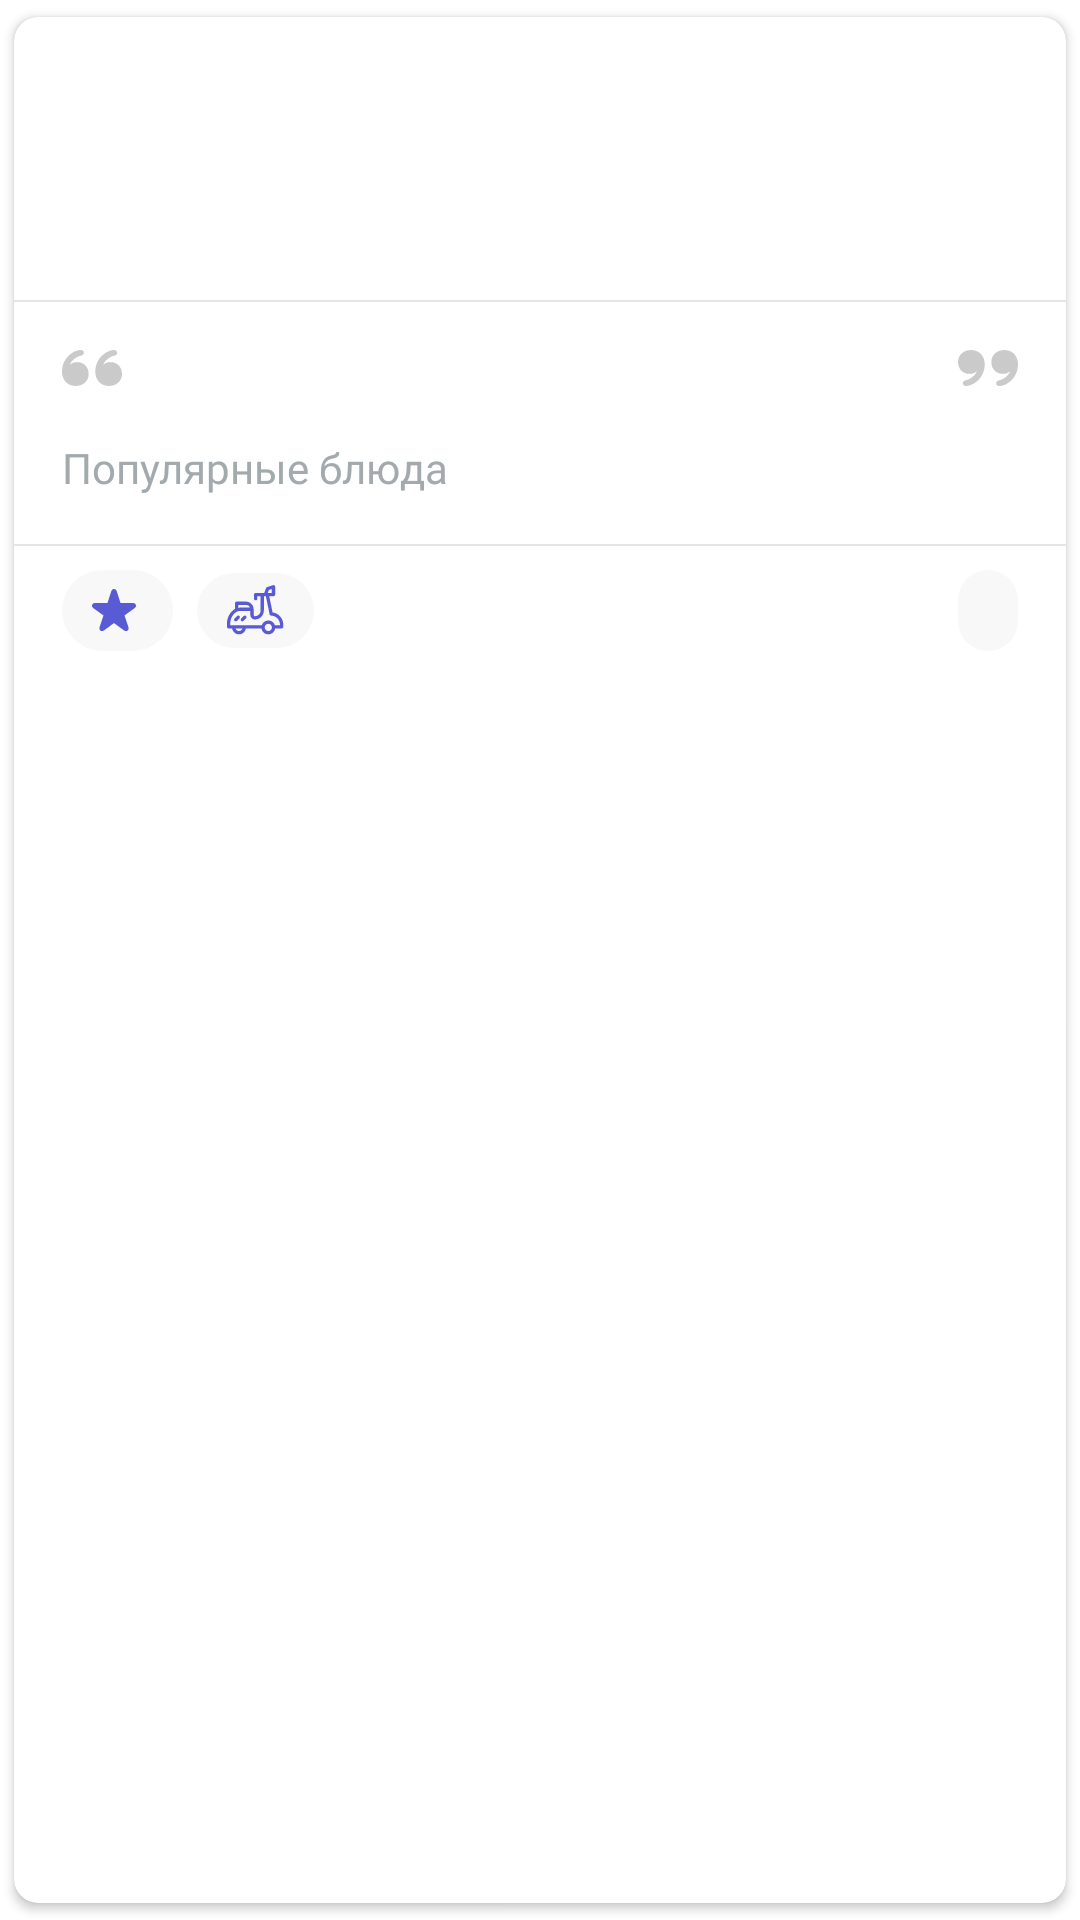

Screen size 1080w x 1920h. Icon name, then its center in pixels as (x=x, y=y):
delivery: (x=255, y=610)
quote downward: (x=988, y=368)
quote upward: (x=92, y=368)
ranking: (x=114, y=610)
